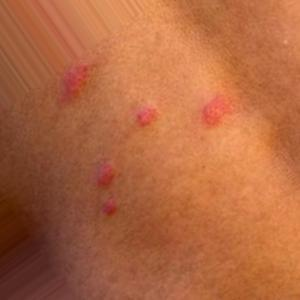Fleas: (49, 60, 91, 110), (195, 91, 236, 131), (133, 103, 160, 127), (98, 195, 122, 219), (93, 161, 114, 185)
